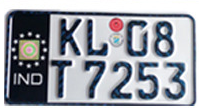0: (124, 19, 152, 57)
2: (110, 60, 134, 100)
3: (163, 61, 188, 101)
5: (137, 61, 160, 101)
7: (82, 59, 107, 100)
8: (154, 20, 175, 58)
K: (58, 17, 84, 57)
L: (85, 18, 110, 57)
T: (50, 58, 74, 100)
